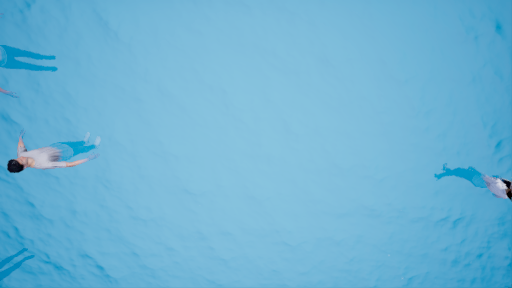person: (7, 134, 115, 178), (443, 159, 512, 205)
